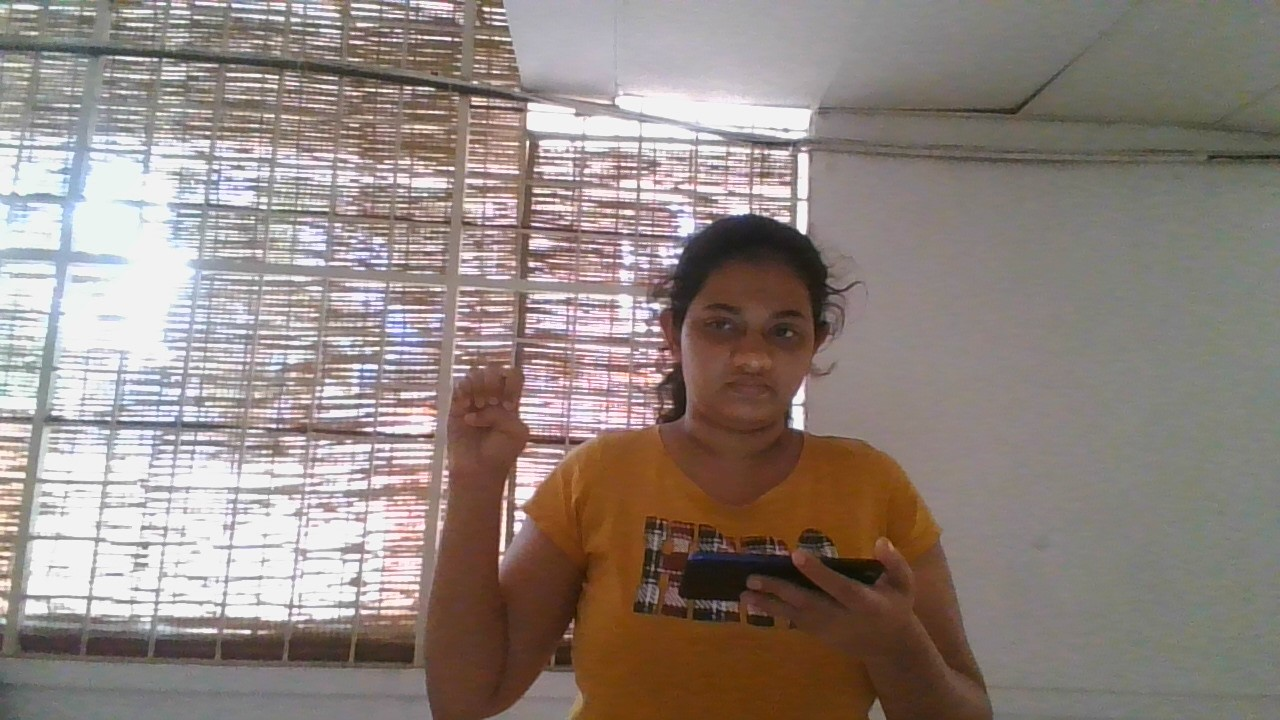e: (435, 357, 543, 479)
